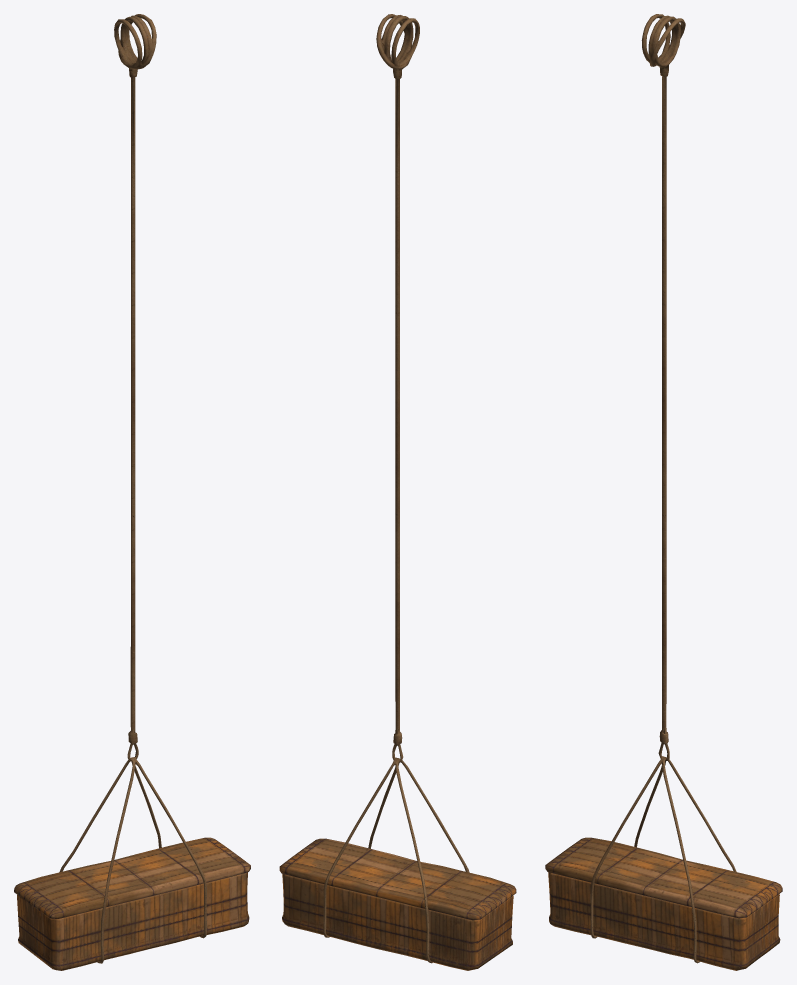
File: SM_CajaSagrada.glb
3 renders of one model, left to right at view 1: azimuth 30°, elevation 25°; view 2: azimuth 150°, elevation 25°; view 3: azimuth 330°, elevation 25°, orthographic.
Visible parts, largest first — view 1: SM_CajaSagrada; view 2: SM_CajaSagrada; view 3: SM_CajaSagrada.
Boxes of the visible parts, bbox=[...] form: SM_CajaSagrada: bbox=[14, 14, 250, 970]; SM_CajaSagrada: bbox=[279, 14, 516, 970]; SM_CajaSagrada: bbox=[545, 14, 782, 970].
Bounding box in the file's own units: 0.9113 × 3.98 × 0.354.
1 material, 1 textured.
